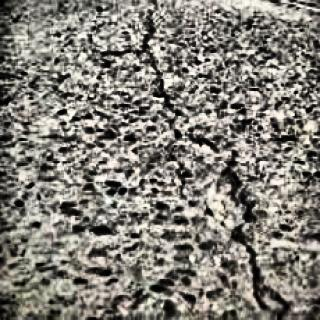crack: (125, 6, 290, 320)
